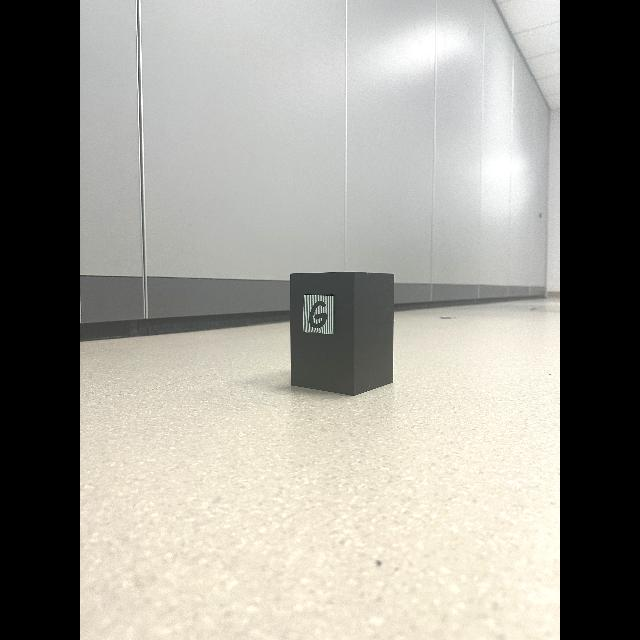G: (309, 300, 328, 328)
